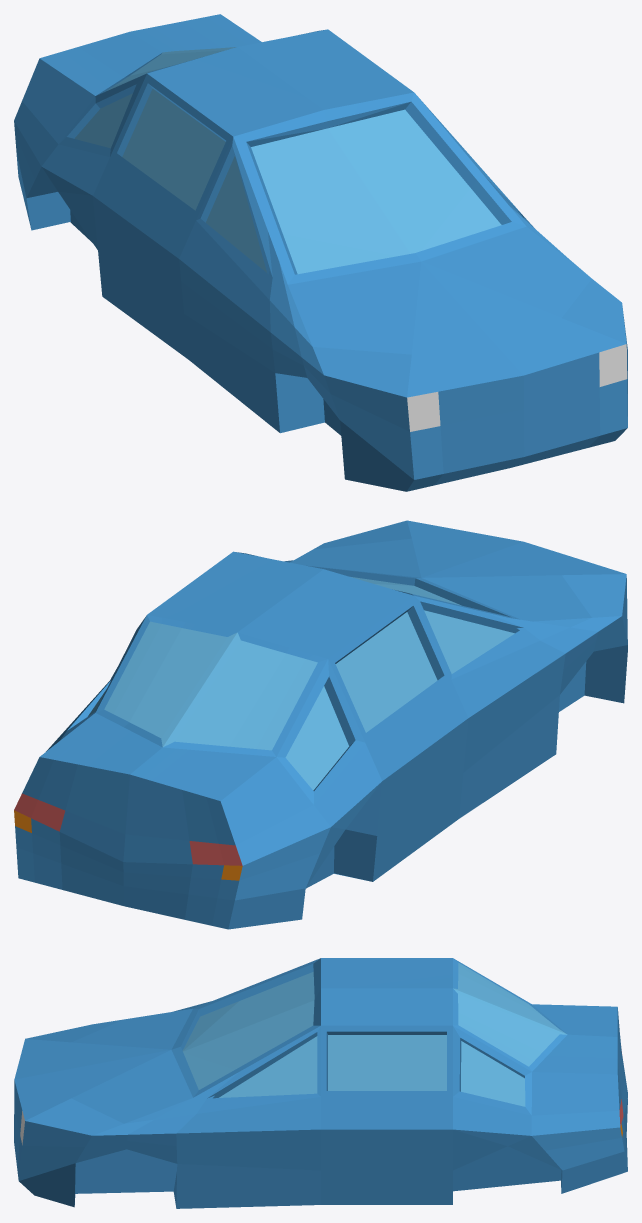
The model's file is blue sedan.fbx.
3 views of the same model, one above another, from view 1: azimuth 30°, elevation 25°; view 2: azimuth 150°, elevation 25°; view 3: azimuth 270°, elevation 25° (orthographic). The views are drawn at different scales.
Visible parts, largest first — view 1: Cube; view 2: Cube; view 3: Cube.
Boxes of the visible parts, left/top/right/bottom form: Cube: left=14, top=14, right=627, bottom=491; Cube: left=14, top=520, right=627, bottom=929; Cube: left=14, top=958, right=627, bottom=1208.
Bounding box in the file's own units: 399 × 283 × 930.
